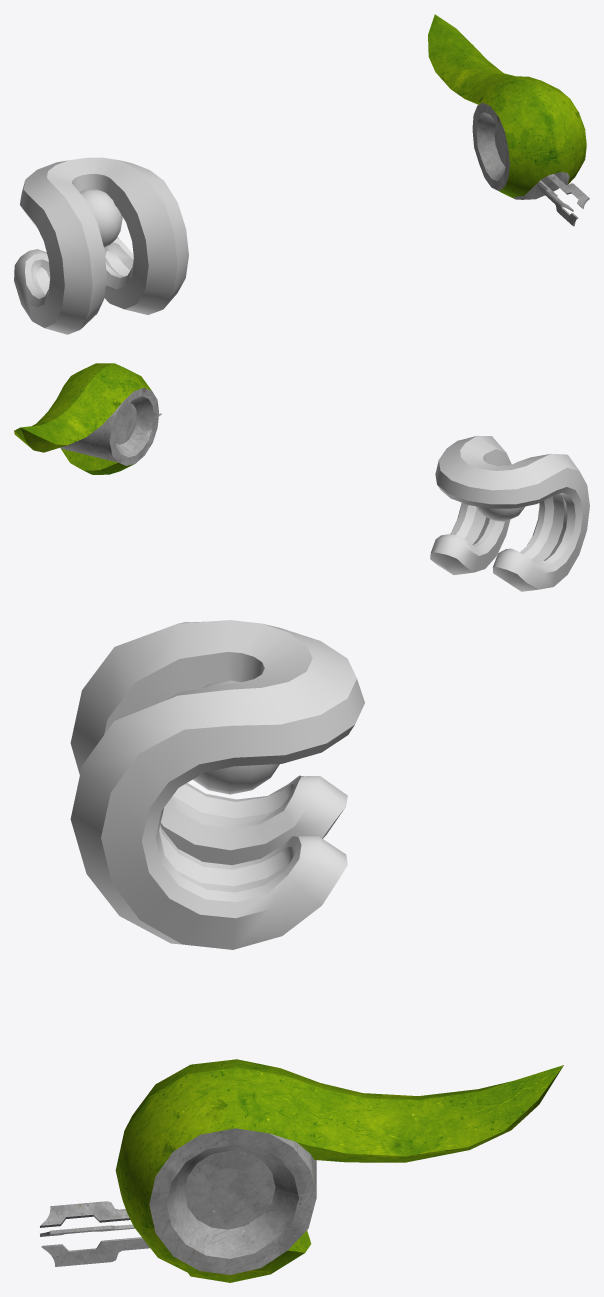
File: Shooter.fbx
3 views of the same model, one above another, from view 1: azimuth 30°, elevation 25°; view 2: azimuth 150°, elevation 25°; view 3: azimuth 270°, elevation 25° (orthographic). The views are drawn at different scales.
Visible parts, largest first — view 1: Cylinder.001, Sphere; view 2: Cylinder.001, Sphere; view 3: Cylinder.001, Sphere.
Part boxes in pixels (bbox=[...]): Cylinder.001: bbox=[14, 157, 188, 334]; Sphere: bbox=[428, 14, 589, 226]; Cylinder.001: bbox=[430, 435, 589, 591]; Sphere: bbox=[14, 363, 161, 474]; Cylinder.001: bbox=[70, 620, 364, 949]; Sphere: bbox=[40, 1059, 563, 1282].
Size of the model in its own units: 991 by 248 by 457.
